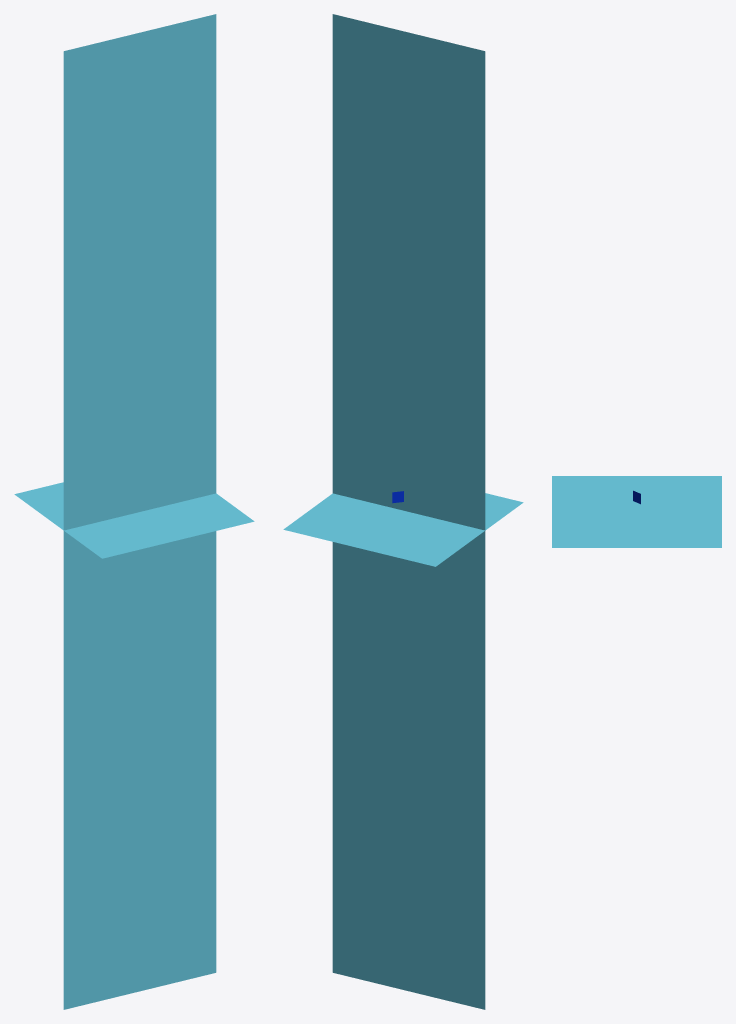
File: emptyscene.glb
3 renders of one model, left to right at view 1: azimuth 30°, elevation 25°; view 2: azimuth 150°, elevation 25°; view 3: azimuth 270°, elevation 25°, orthographic. The views are drawn at different scales.
Visible parts, largest first — view 1: 平面.002, 平面.001; view 2: 平面.002, 平面.001; view 3: 平面.001.
Part boxes in pixels (x1,y1,x2,y2): 平面.002: (63,14,216,1009); 平面.001: (14,482,254,558); 平面.002: (332,14,485,1009); 平面.001: (283,493,523,566); 平面.001: (552,476,721,547).
Size of the model in its own units: 29.32 by 176 by 29.32.
